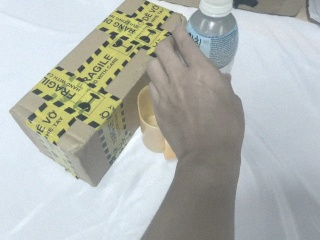bottle: (185, 1, 239, 74)
box: (9, 1, 239, 188)
cup: (137, 85, 176, 161)
